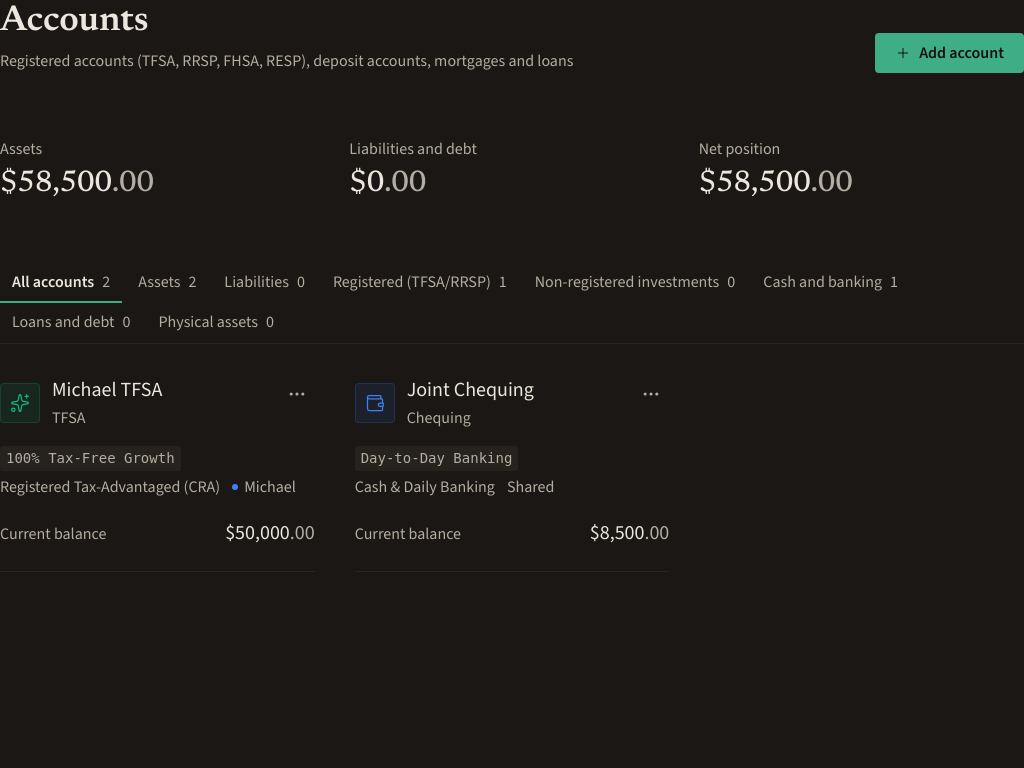
Test: AccountsManagerView on a phone › opens a card's sheet with a tap anywhere on the card
Click the heading "Michael TFSA" at {"x": 107, "y": 390}, box [52,376,162,404]
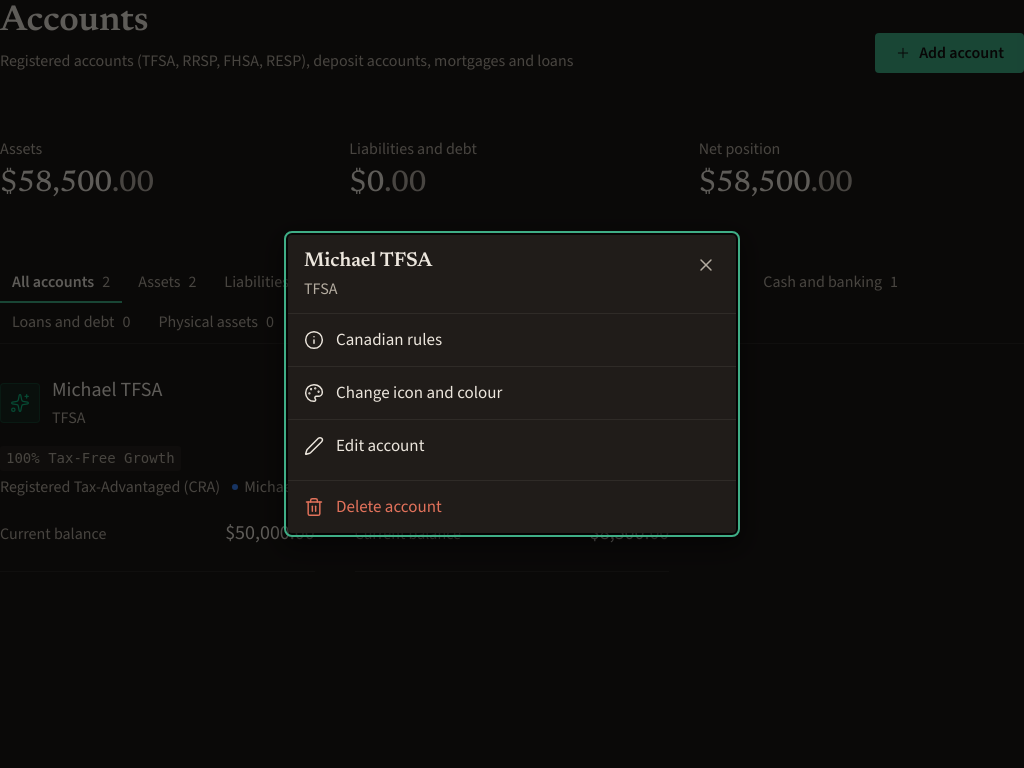
Expected: the dialog "Michael TFSA" is shown, [288,235,736,533]
